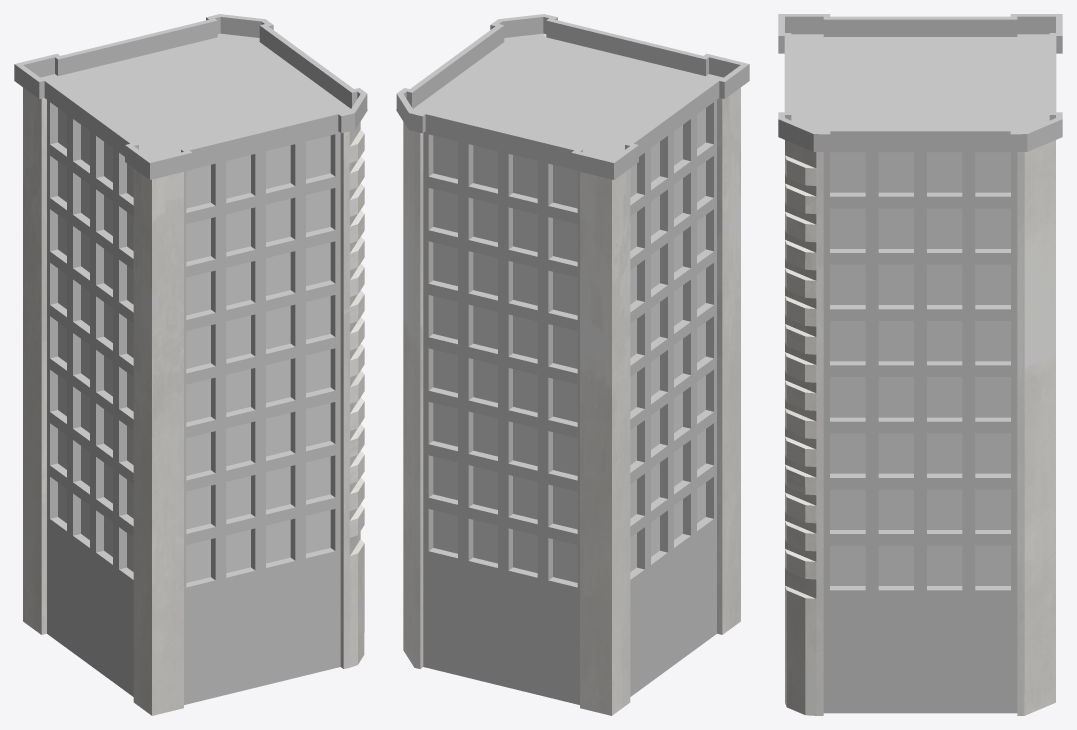
Rendered from Building4.fbx.
The picture shows the model from 3 angles, left to right: view 1: azimuth 30°, elevation 25°; view 2: azimuth 150°, elevation 25°; view 3: azimuth 270°, elevation 25°; orthographic projection. The views are drawn at different scales.
Visible parts, largest first — view 1: Plane; view 2: Plane; view 3: Plane.
Boxes of the visible parts, bbox=[...] form: Plane: bbox=[14, 14, 367, 715]; Plane: bbox=[396, 14, 749, 715]; Plane: bbox=[778, 14, 1062, 715].
Bounding box in the file's own units: 441 × 1000 × 441.
